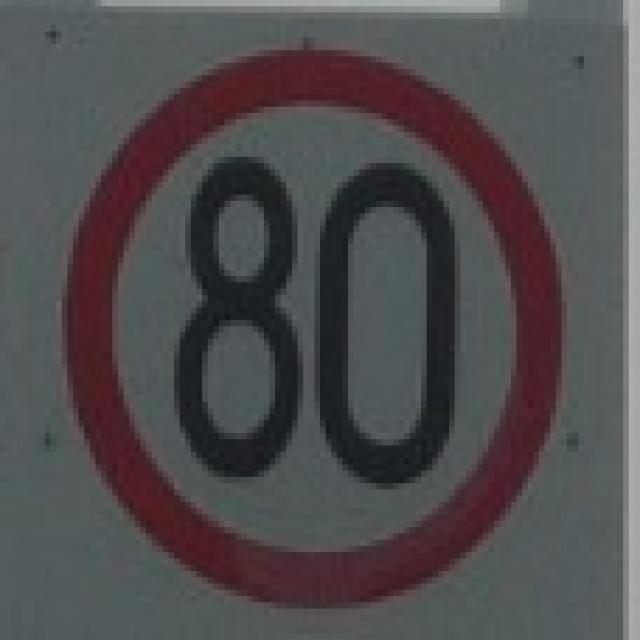Speed Limit -80-: (174, 153, 462, 484)
